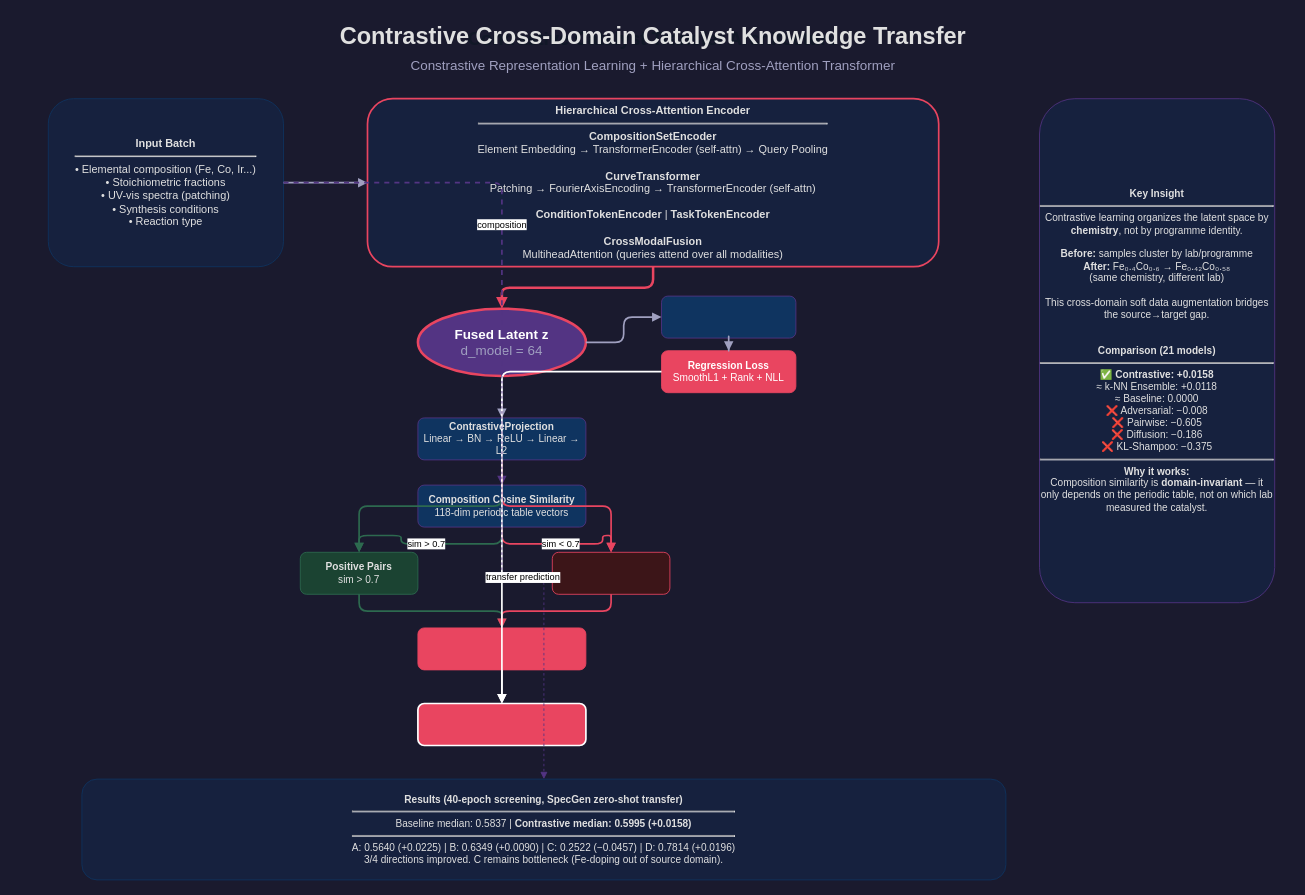
The diagram is 1305 pixels wide and 895 high, and some of its shapes have lost their labels. Here are the shapes that lost their labels. From the top down, the centre of each, then its label:
At (x=728, y=316): "Prediction Head MLP → log_variance".
At (x=610, y=572): "Negative Pairs sim < 0.7".
At (x=501, y=648): "NT‑Xent Loss −log[exp(sim⁺/τ) / Σ exp(sim⁻/τ)]".
At (x=501, y=724): "Total Loss regression + 0.1 × contrastive".
